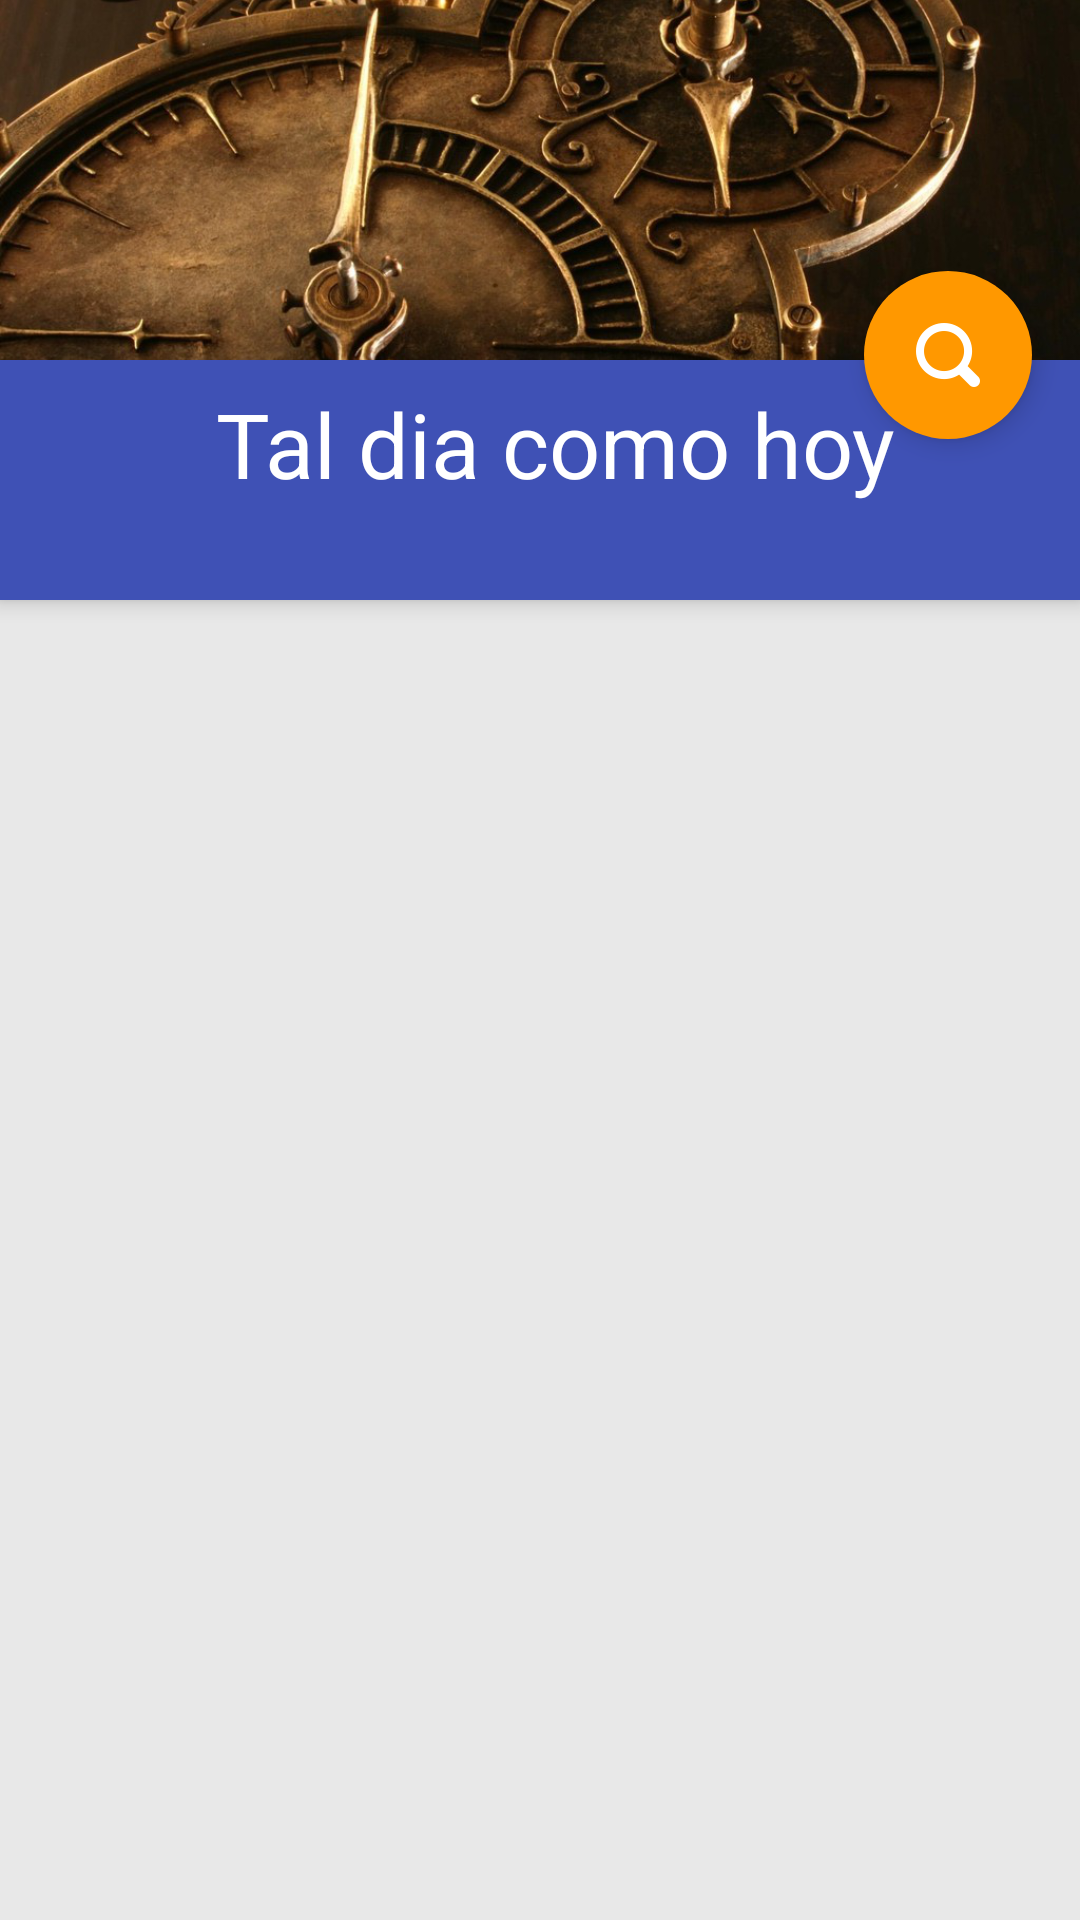

Point at icon controls on the screen. Image size 1080 × 1920, points as point (x, y).
search: point (948, 355)
